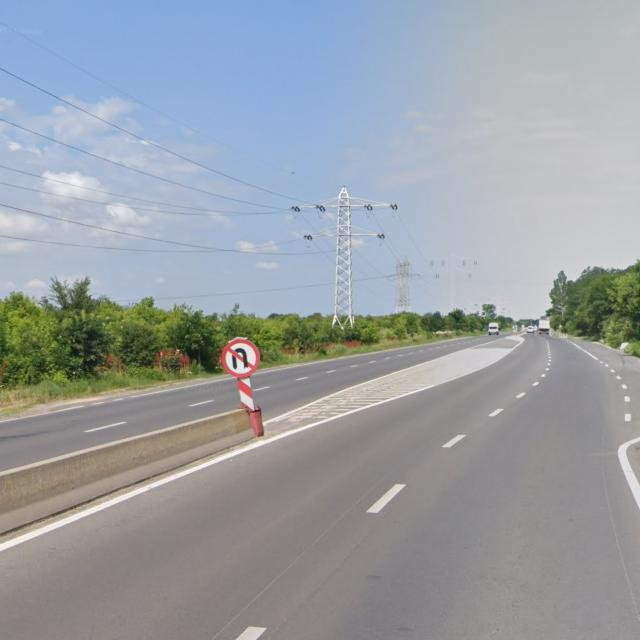forb_u_turn: (220, 338, 260, 378)
